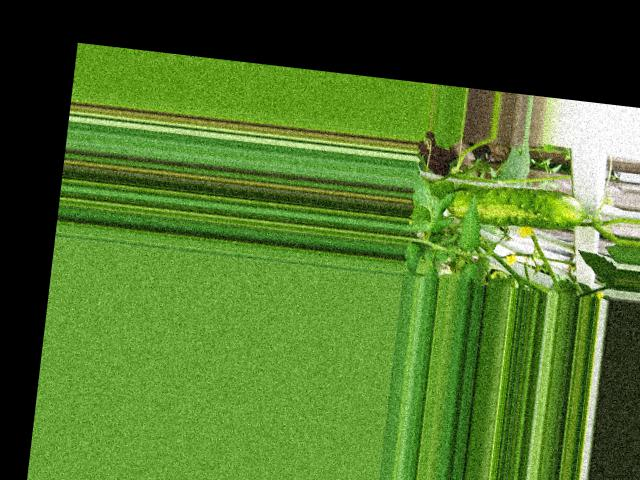cucumber: (447, 179, 587, 233)
